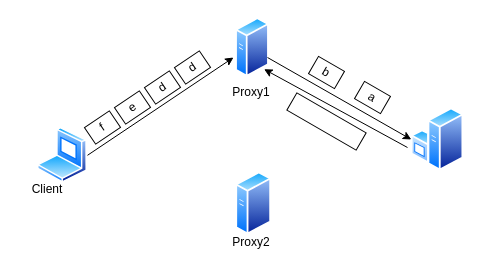
Some shapes in this 484 by 274 pixel diagram are drawn without their labels. The box of each missing label's shape, as (x1, y1, x2, y2) in pixels:
Proxy = 2: (286, 92, 366, 150)
Server: (411, 107, 463, 171)
